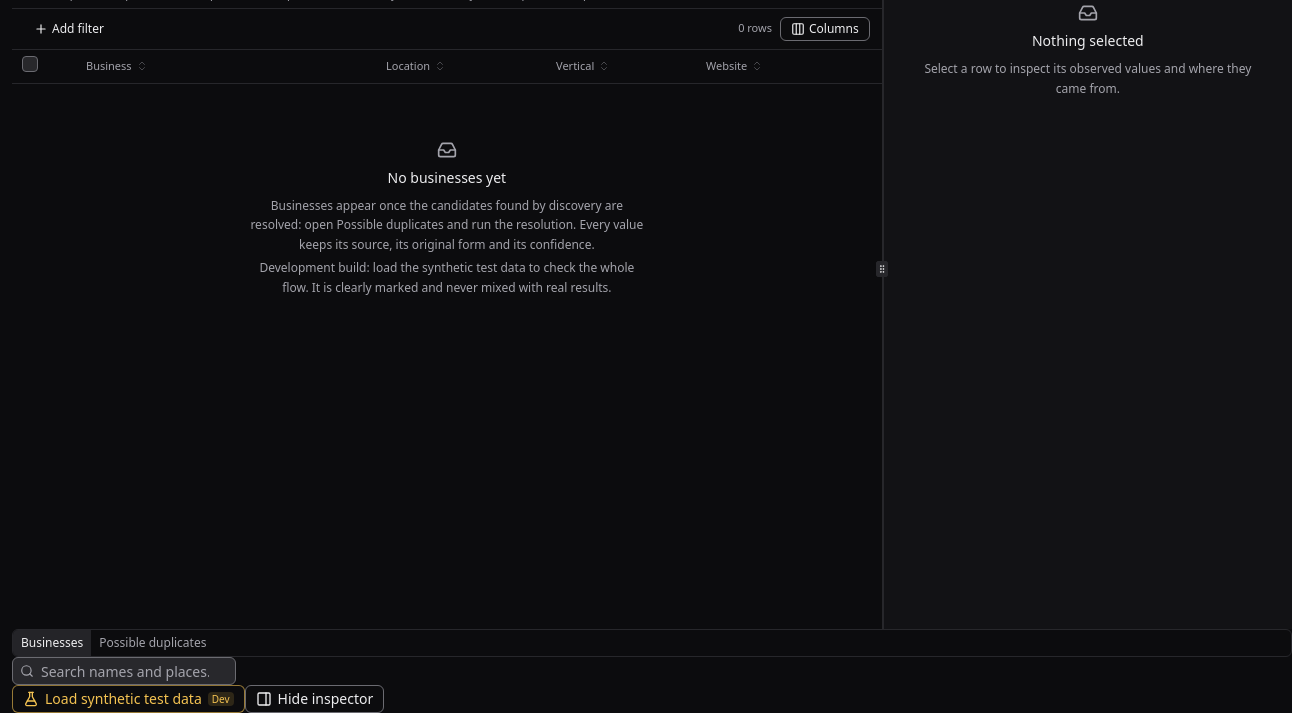
Test: BusinessesScreen › searches in the store after the user stops typing
This screenshot has width=1292, height=713.
(page scrolled)
Expected: the text "No businesses yet" is shown, x1=388 y1=168 x2=506 y2=188
In the search field named "Search businesses": (124, 671) x1=12 y1=657 x2=236 y2=685, type "b"
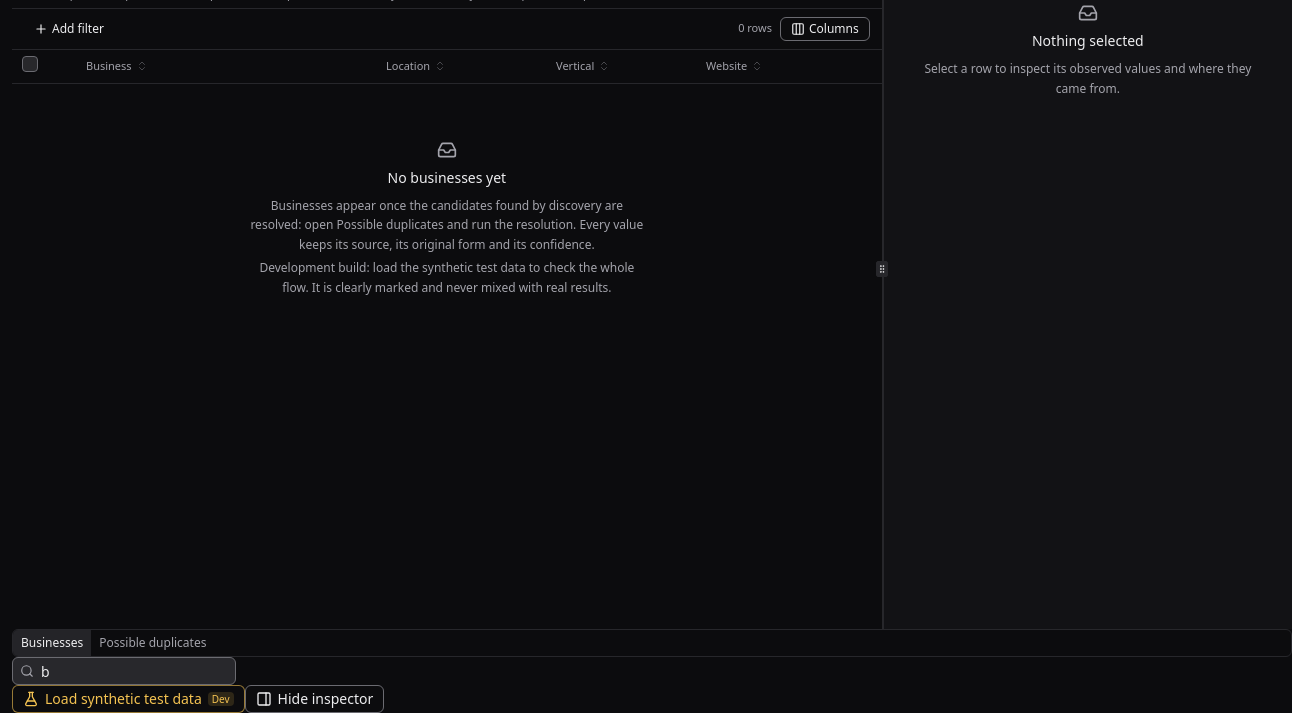
Replace the text in the search field named "Search businesses" with "ba": (124, 671) x1=12 y1=657 x2=236 y2=685
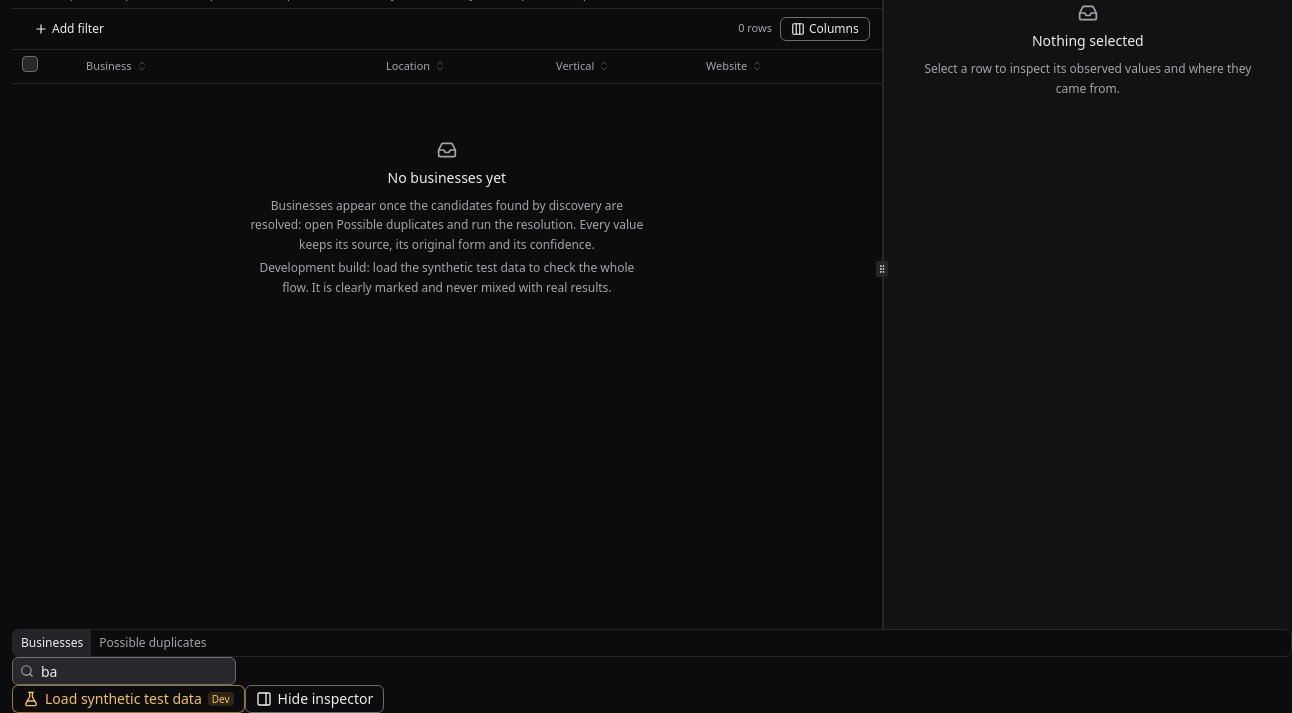
Replace the text in the search field named "Search businesses" with "bakery ": (124, 671) x1=12 y1=657 x2=236 y2=685
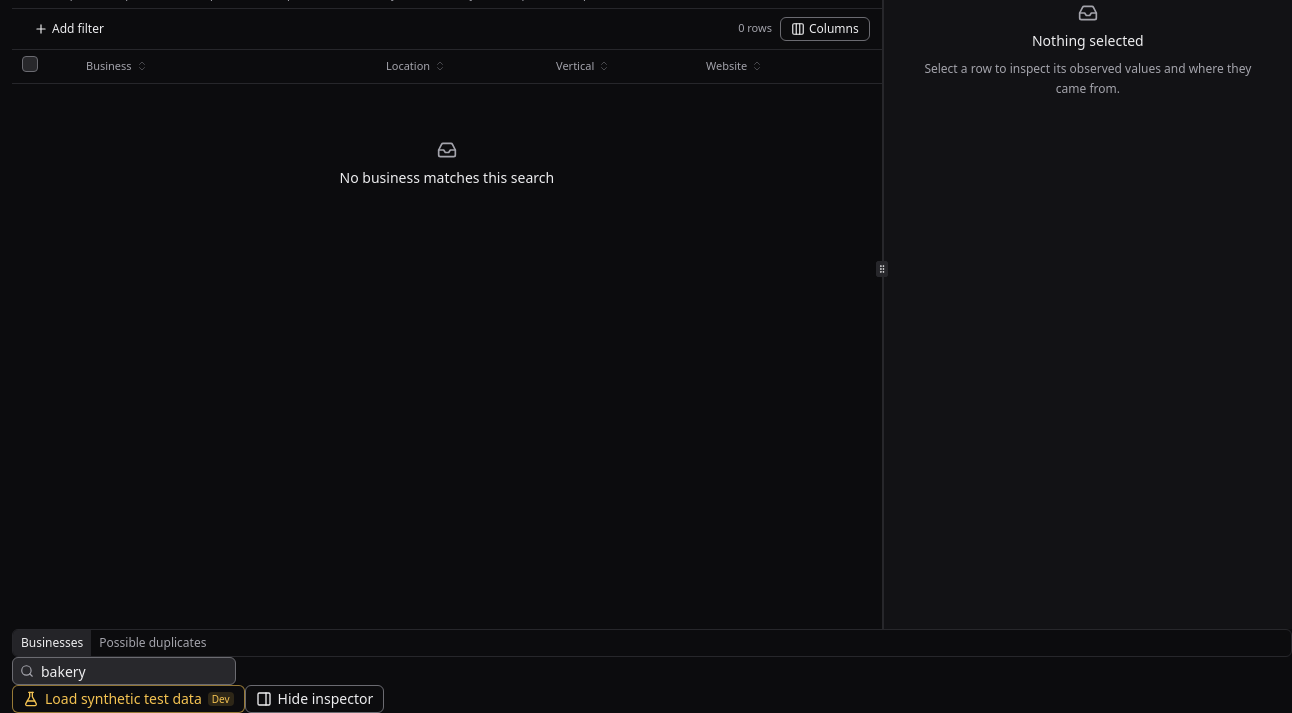
Now the text "No business matches this search" is shown, box x1=340 y1=168 x2=554 y2=188
